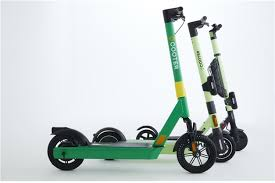kick_board: (48, 7, 216, 172)
kick_body: (87, 142, 161, 159)
kick_handler: (189, 16, 209, 36), (163, 7, 185, 22), (208, 24, 223, 40)
kick_neck: (164, 24, 186, 118)
kick_wheel: (47, 126, 83, 171), (177, 135, 216, 173), (213, 132, 235, 162), (233, 129, 248, 150)
